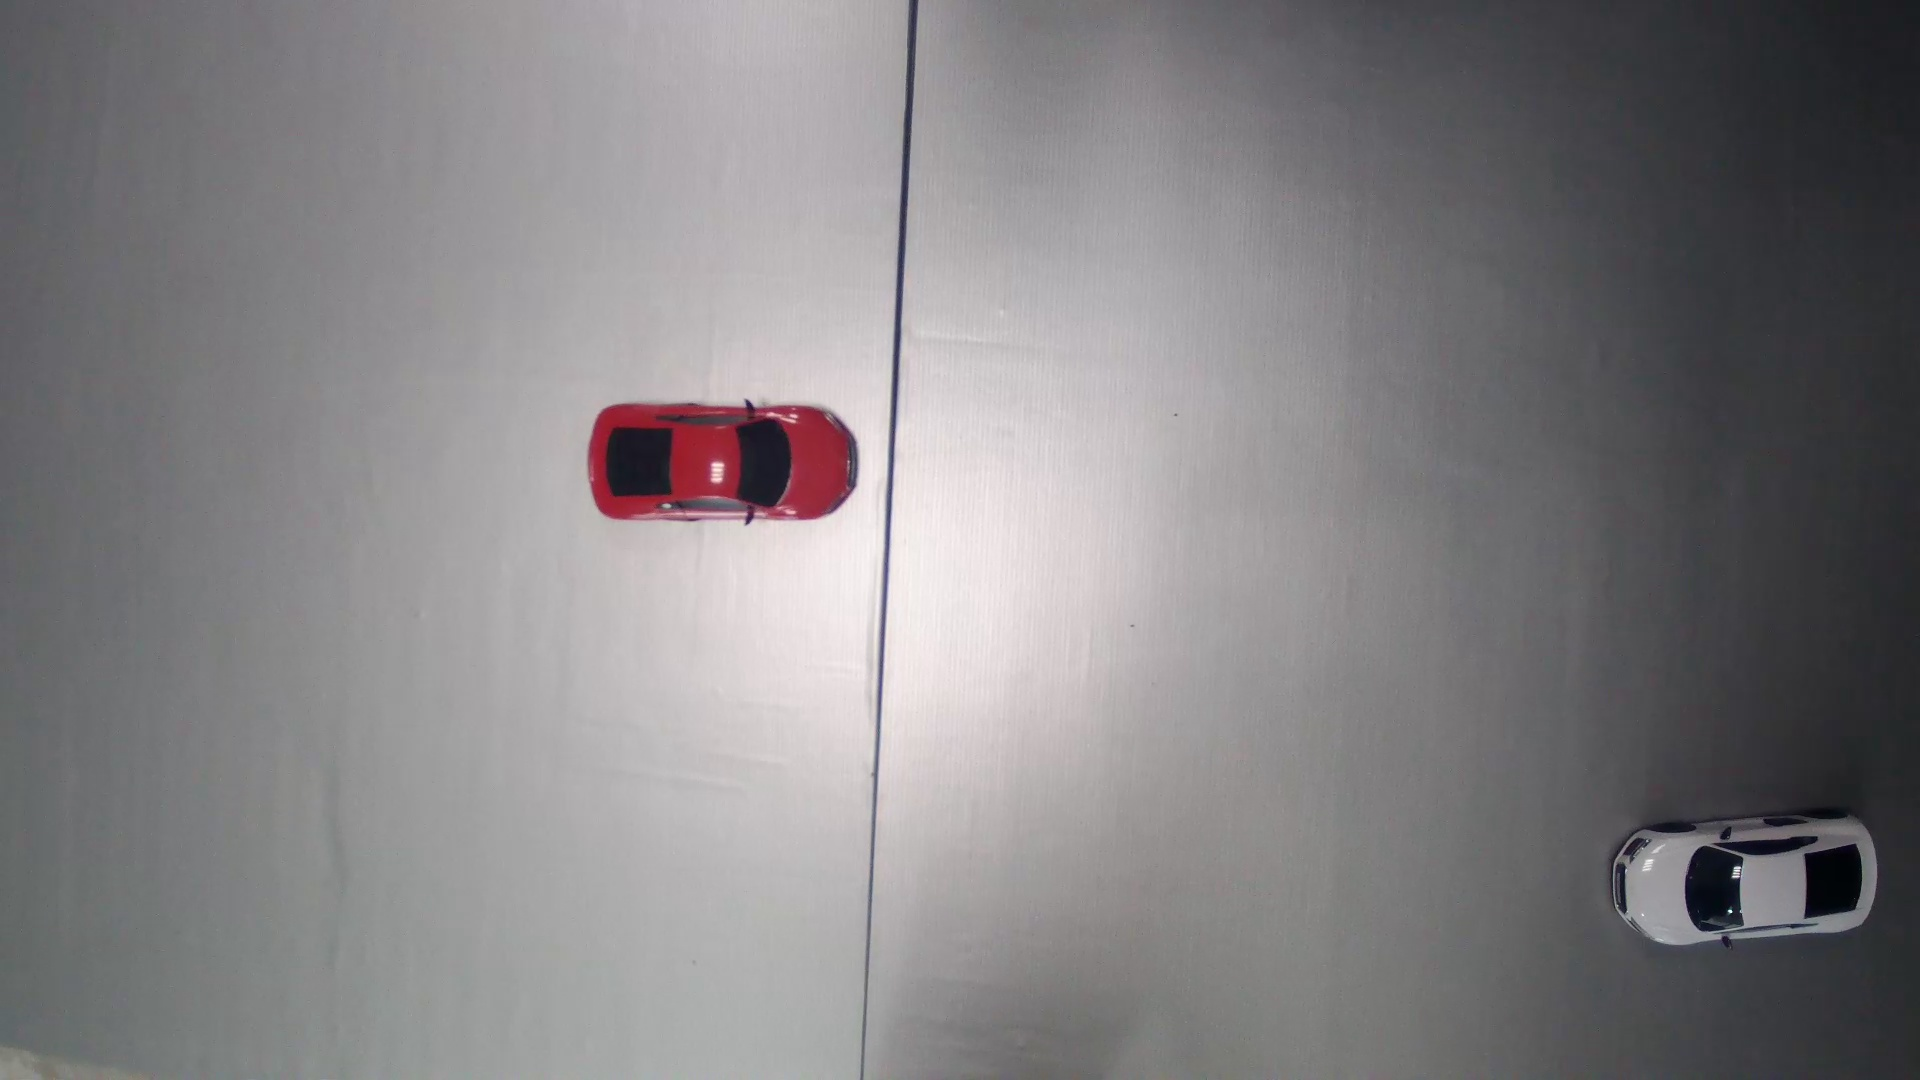remote_car: (1607, 807, 1878, 947), (585, 400, 858, 524)
